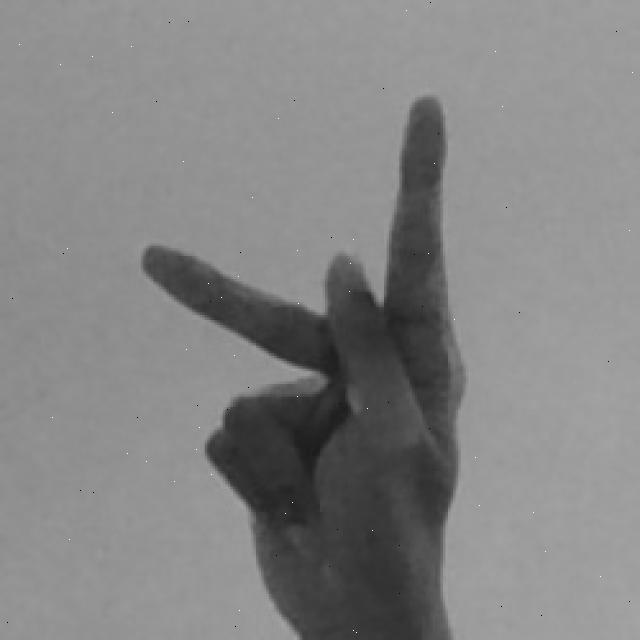K: (139, 92, 471, 640)
